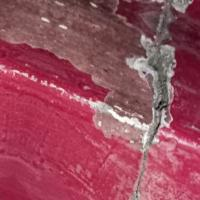crack: (105, 30, 193, 194)
